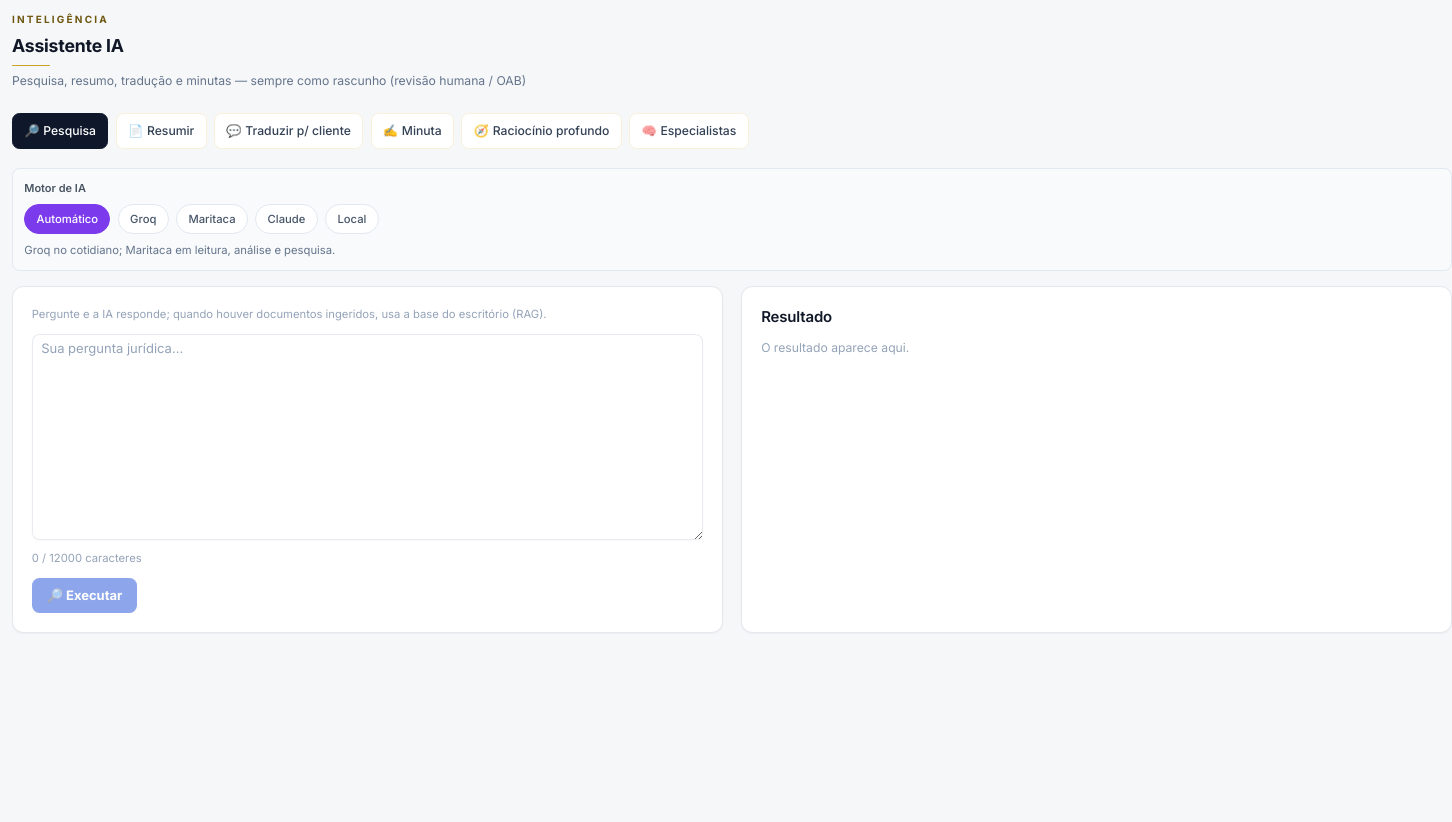
Test: AssistenteIA — limites de caracteres iguais aos do backend › contador e maxLength acompanham a ferramenta escolhida
Check: the text with test id "contador-caracteres" reads "0 / 12000 caracteres", box [32,551,142,565]
In the text box with placeholder "Sua pergunta jurídica…": (367, 437) [32,334,703,540], type "abcde"
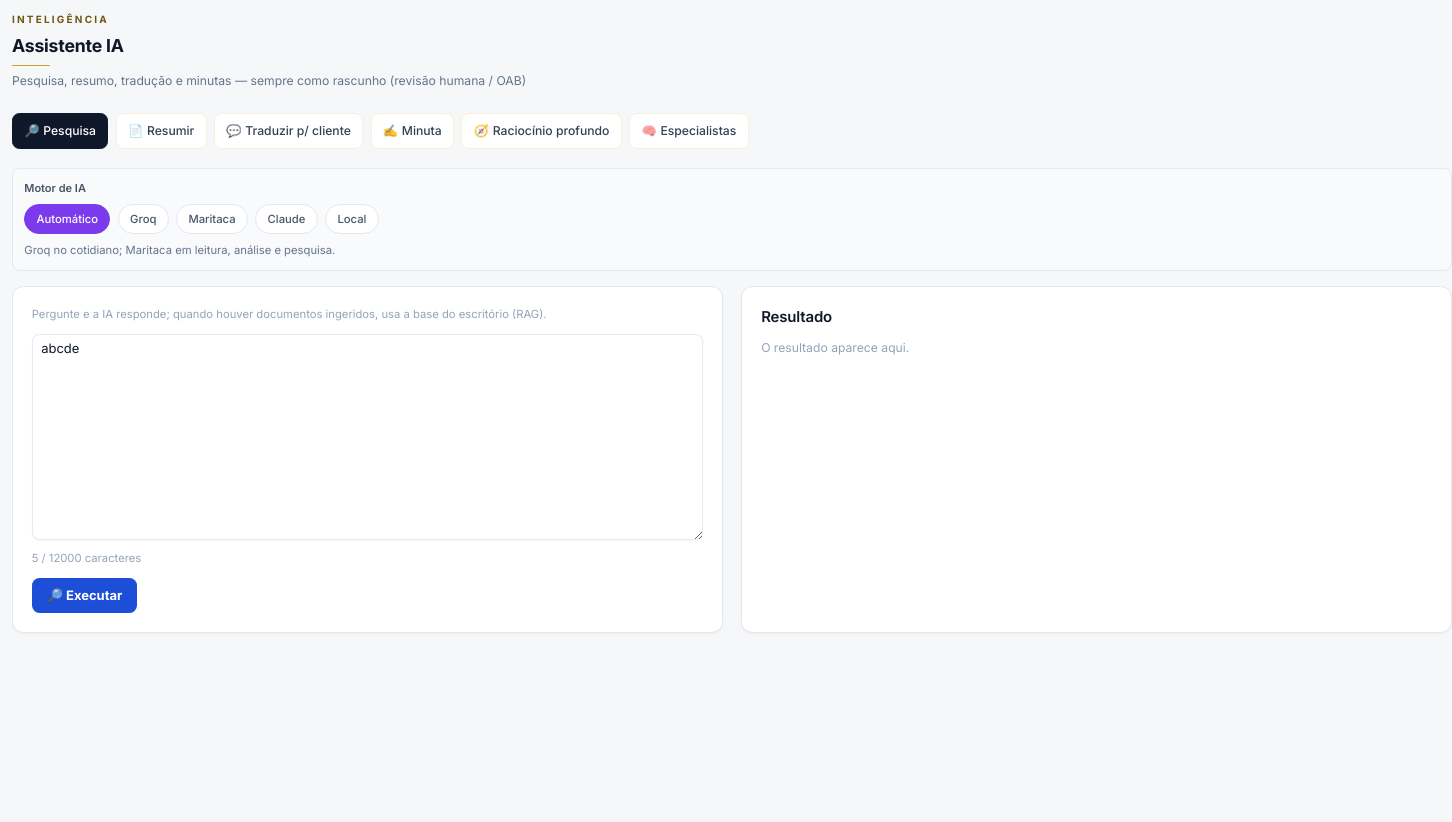
Check: the text with test id "contador-caracteres" reads "5 / 12000 caracteres", box [32,551,141,565]
Click the button "📄Resumir": (161, 131) [116,113,207,149]
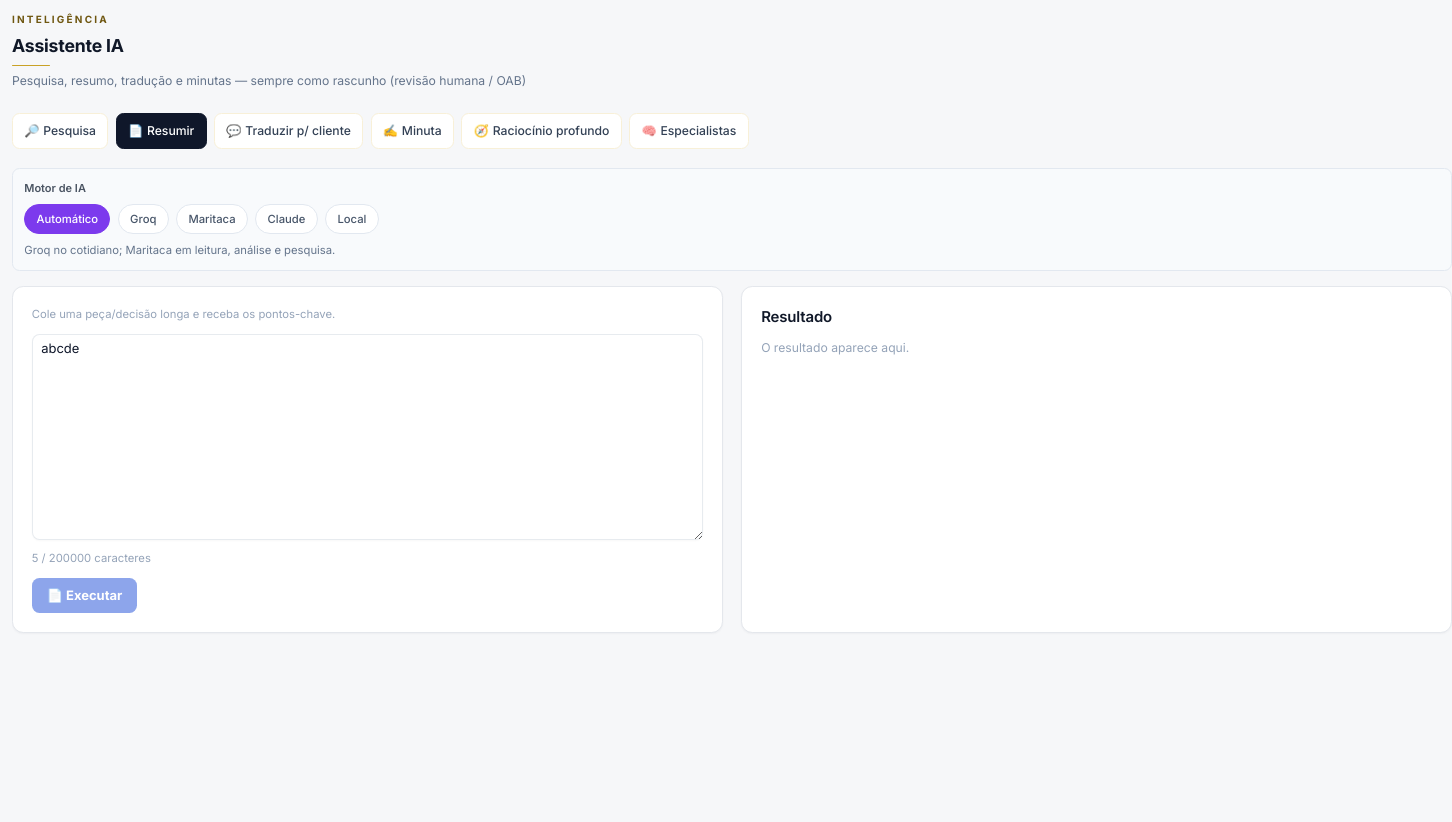
Check: the text with test id "contador-caracteres" shows "/ 200000 caracteres", box [32,551,151,565]
